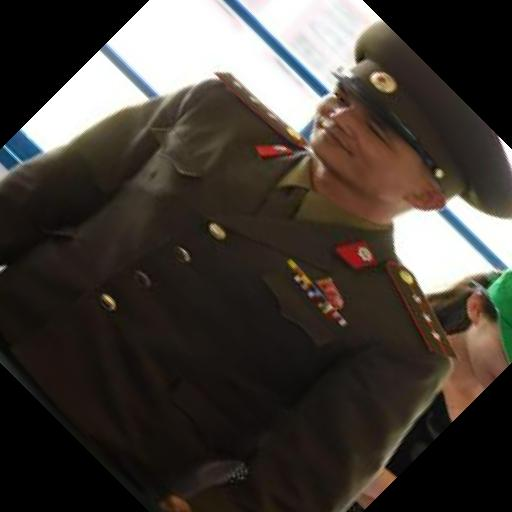north army: (38, 31, 490, 470)
